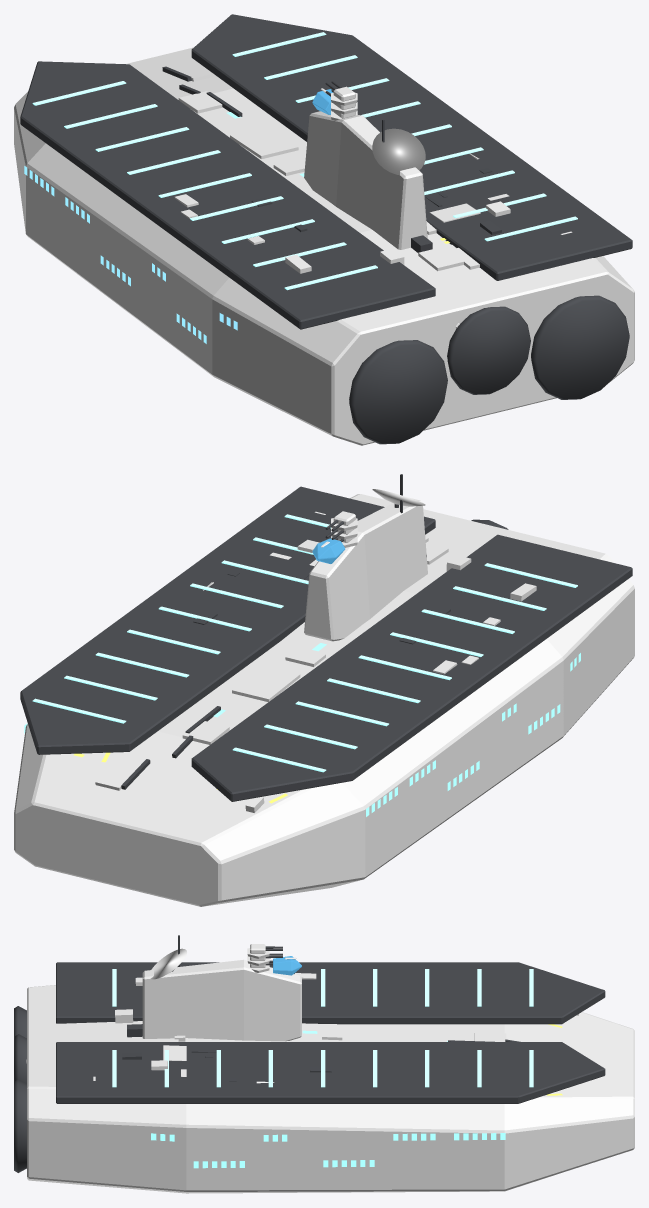
Rendered from matka.glb.
3 views of the same model, one above another, from view 1: azimuth 30°, elevation 25°; view 2: azimuth 150°, elevation 25°; view 3: azimuth 270°, elevation 25° (orthographic). The views are drawn at different scales.
Visible parts, largest first — view 1: Корпус, Палуба.001, Палуба, Остров, Кожух_дюзы.001, Кожух_дюзы, Накладные_плиты, Кожух_дюзы.002, Антенна_тарелка, Механика, Решётки; view 2: Корпус, Палуба.001, Палуба, Остров, Накладные_плиты, Механика, Решётки; view 3: Корпус, Палуба, Палуба.001, Остров, Накладные_плиты, Решётки, Кожух_дюзы, Механика, Антенна_тарелка, Кожух_дюзы.002, Кабина, Кожух_дюзы.001.
Part boxes in pixels (x1=…): Корпус: x1=14, y1=47, x2=634, y2=445; Палуба.001: x1=20, y1=61, x2=435, y2=329; Палуба: x1=191, y1=14, x2=632, y2=280; Остров: x1=304, y1=111, x2=427, y2=249; Кожух_дюзы.001: x1=349, y1=340, x2=447, y2=444; Кожух_дюзы: x1=531, y1=295, x2=629, y2=399; Накладные_плиты: x1=167, y1=61, x2=572, y2=273; Кожух_дюзы.002: x1=447, y1=306, x2=530, y2=394; Антенна_тарелка: x1=372, y1=128, x2=425, y2=174; Механика: x1=162, y1=66, x2=501, y2=252; Решётки: x1=24, y1=112, x2=304, y2=343; Корпус: x1=14, y1=494, x2=634, y2=906; Палуба.001: x1=191, y1=534, x2=632, y2=801; Палуба: x1=20, y1=486, x2=435, y2=754; Остров: x1=304, y1=498, x2=427, y2=641; Накладные_плиты: x1=95, y1=511, x2=536, y2=812; Механика: x1=121, y1=474, x2=450, y2=789; Решётки: x1=24, y1=643, x2=580, y2=816; Корпус: x1=27, y1=985, x2=634, y2=1193; Палуба: x1=56, y1=1042, x2=605, y2=1103; Палуба.001: x1=56, y1=962, x2=605, y2=1024; Остров: x1=142, y1=959, x2=301, y2=1041; Накладные_плиты: x1=84, y1=973, x2=578, y2=1083; Решётки: x1=151, y1=1030, x2=505, y2=1168; Кожух_дюзы: x1=14, y1=1079, x2=26, y2=1172; Механика: x1=122, y1=935, x2=520, y2=1081; Антенна_тарелка: x1=151, y1=948, x2=186, y2=979; Кожух_дюзы.002: x1=15, y1=1034, x2=26, y2=1083; Кабина: x1=273, y1=956, x2=301, y2=975; Кожух_дюзы.001: x1=14, y1=1006, x2=26, y2=1081.
Bounding box in the file's own units: 1.17 × 0.7516 × 2.14.
